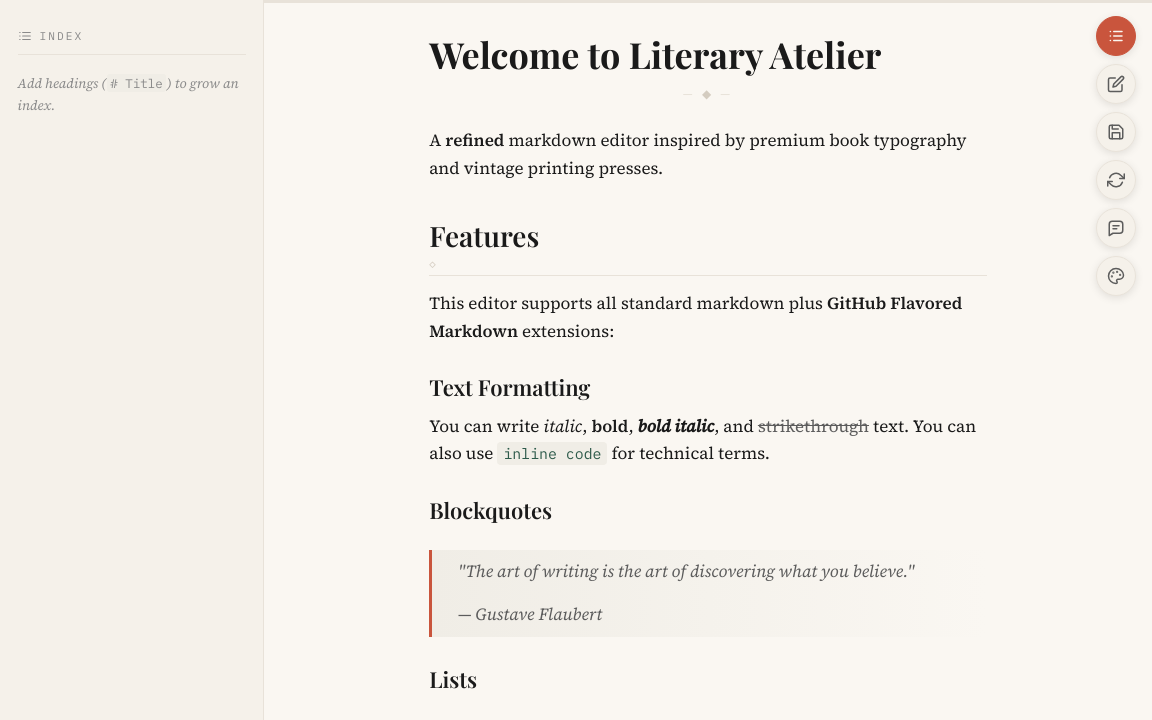
Test: App › renders editor textarea when editor is shown
Editor is collapsed by default, show it first
What coordinates should you click on to do the following:
click the button named "show editor"
I would click on:
 (1116, 84)
Its box is [1096,64,1136,104].
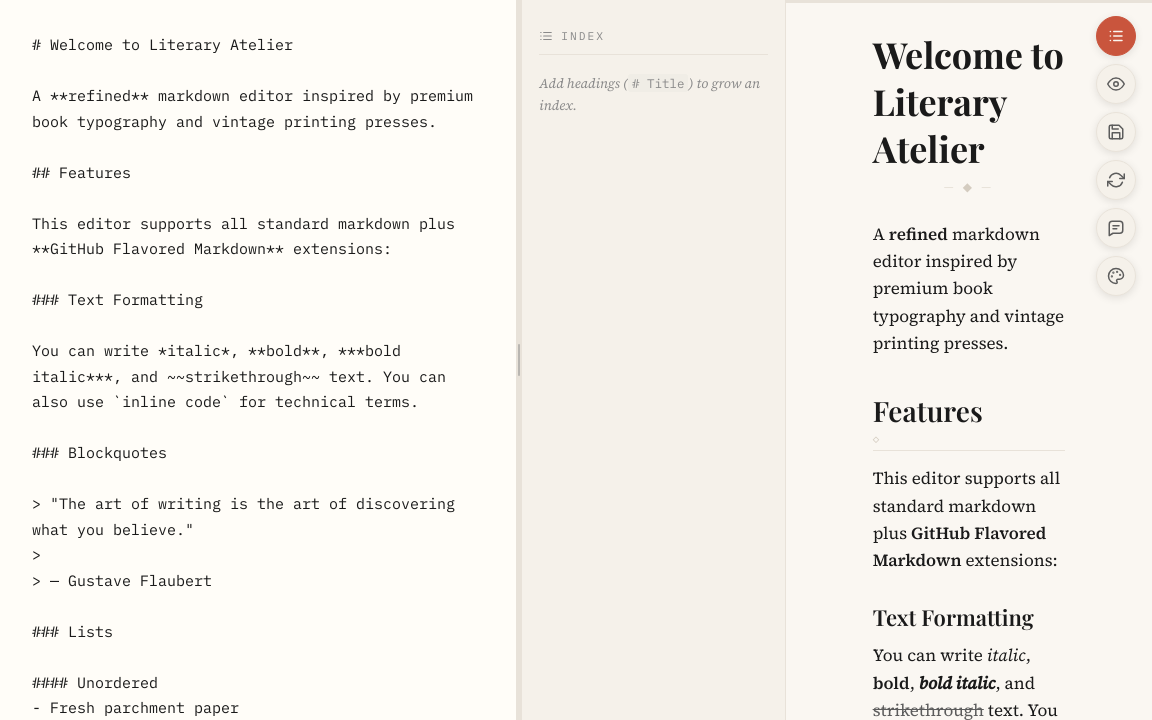
Expected: the text box with placeholder "Start writing your markdown here..." is shown, [0,0,516,719]
